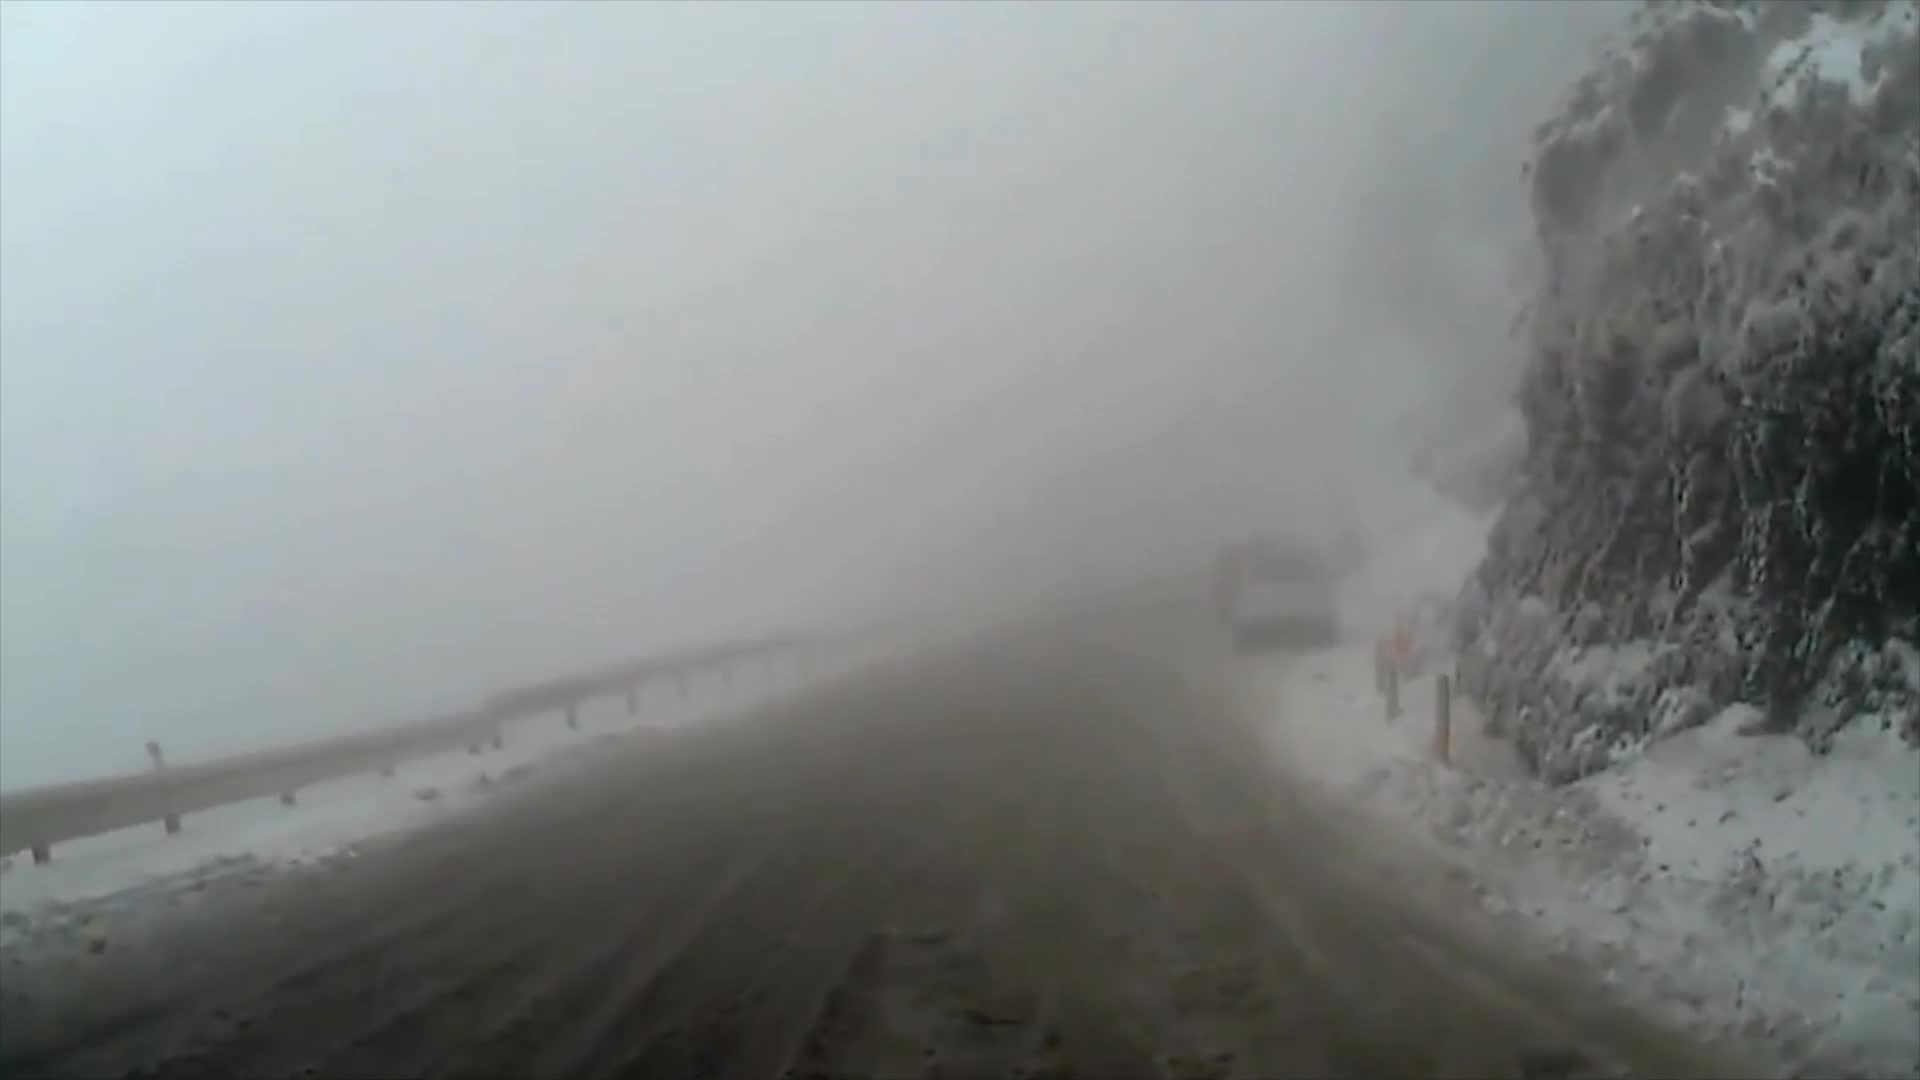vehicle: (1228, 554, 1342, 663)
